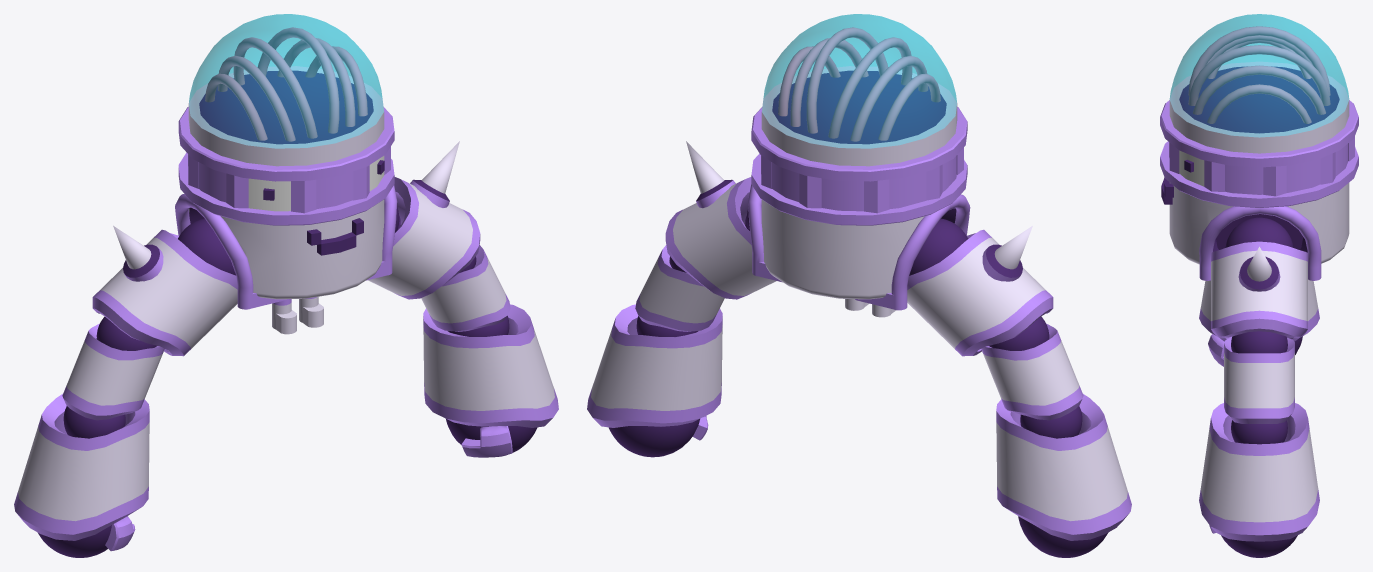
File: Lickquidator_Bouncerrr.fbx
3 renders of one model, left to right at view 1: azimuth 30°, elevation 25°; view 2: azimuth 150°, elevation 25°; view 3: azimuth 270°, elevation 25°, orthographic. The views are drawn at different scales.
Visible parts, largest first — view 1: pCylinder13 (×2), body, body_dome, pCylinder11 (×2), visor, pCylinder12 (×2), pTorus1 (×2), pCone7 (×2), pTorus2 (×2), dividers, shoulder_rim2, pSphere2 (×2) (+9 smaller); view 2: pCylinder13 (×2), body, body_dome, pCylinder11 (×2), visor, pCylinder12 (×2), pSphere2 (×2), pTorus1 (×2), pCone7 (×2), pTorus2 (×2), dividers, shoulder_rim2 (+5 smaller); view 3: body_dome, body, pCylinder13 (×2), visor, pCylinder11, pCylinder12, pTorus1 (×2), shoulder_rim1, dividers, pTorus2 (×2), pTorus3 (×2), pSphere1 (+6 smaller).
Boxes of the visible parts, x1,y1,x2,y2 form: pCylinder13 (×2): [14, 304, 558, 540]; body: [188, 66, 384, 299]; body_dome: [189, 14, 383, 148]; pCylinder11 (×2): [92, 177, 480, 356]; visor: [178, 107, 394, 225]; pCylinder12 (×2): [62, 245, 510, 420]; pTorus1 (×2): [233, 27, 339, 138]; pCone7 (×2): [113, 141, 459, 281]; pTorus2 (×2): [217, 38, 355, 141]; dividers: [188, 146, 390, 213]; shoulder_rim2: [175, 194, 288, 309]; pSphere2 (×2): [38, 419, 537, 557]; pCylinder13 (×2): [587, 304, 1131, 540]; body: [761, 66, 957, 299]; body_dome: [762, 14, 956, 148]; pCylinder11 (×2): [665, 177, 1053, 356]; visor: [751, 107, 967, 225]; pCylinder12 (×2): [635, 245, 1083, 420]; pSphere2 (×2): [608, 419, 1108, 557]; pTorus1 (×2): [806, 27, 912, 138]; pCone7 (×2): [686, 141, 1032, 281]; pTorus2 (×2): [790, 38, 928, 141]; dividers: [761, 148, 963, 213]; shoulder_rim2: [855, 194, 970, 310]; body_dome: [1169, 14, 1349, 137]; body: [1169, 61, 1349, 264]; pCylinder13 (×2): [1199, 279, 1319, 541]; visor: [1160, 100, 1358, 207]; pCylinder11: [1211, 241, 1307, 341]; pCylinder12: [1224, 338, 1294, 423]; pTorus1 (×2): [1188, 26, 1330, 105]; shoulder_rim1: [1199, 206, 1321, 280]; dividers: [1169, 136, 1354, 196]; pTorus2 (×2): [1193, 35, 1325, 114]; pTorus3 (×2): [1207, 40, 1311, 123]; pSphere1: [1225, 217, 1293, 247].
Bounding box in the file's own units: 4.63 × 4.03 × 1.65.
